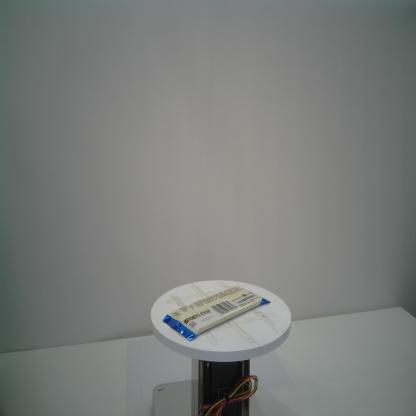Chocolate: (161, 285, 271, 341)
